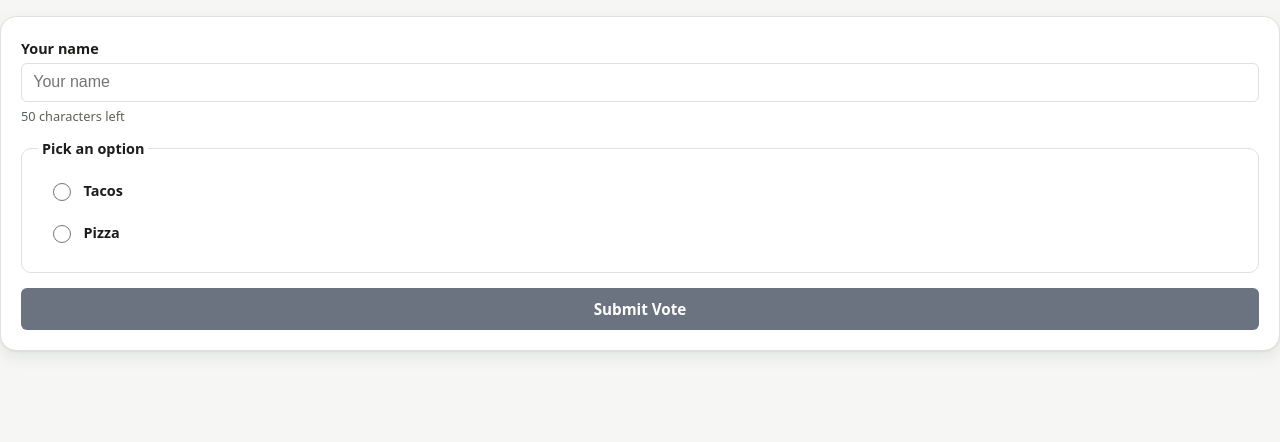
Test: VotingForm › shows a generic error banner for an unknown-option business error (AC-009)
Type "Priya" into the field labelled "Your name" at point(640, 82), box [21, 63, 1259, 102]
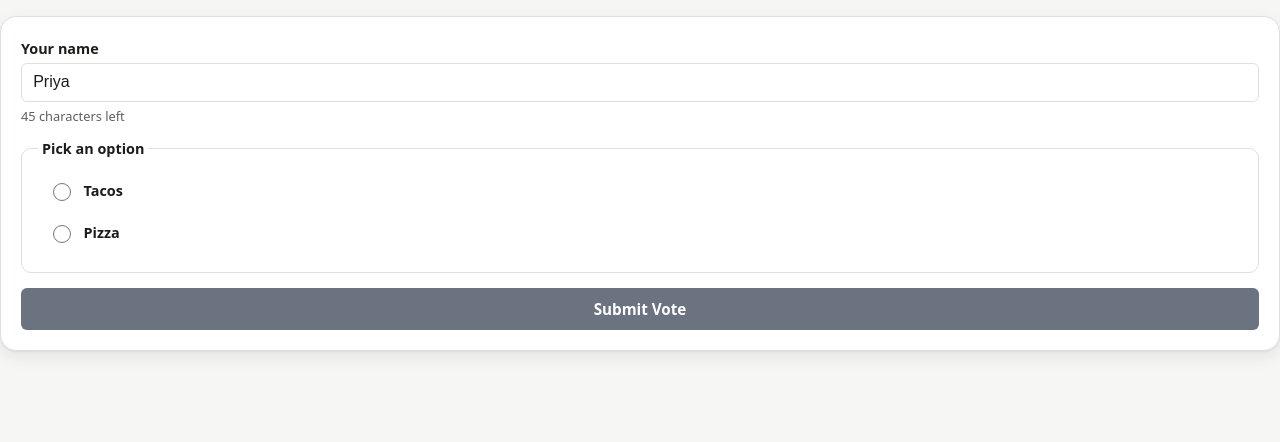
Click the radio button labelled "Tacos" at point(62, 192), box [53, 183, 71, 201]
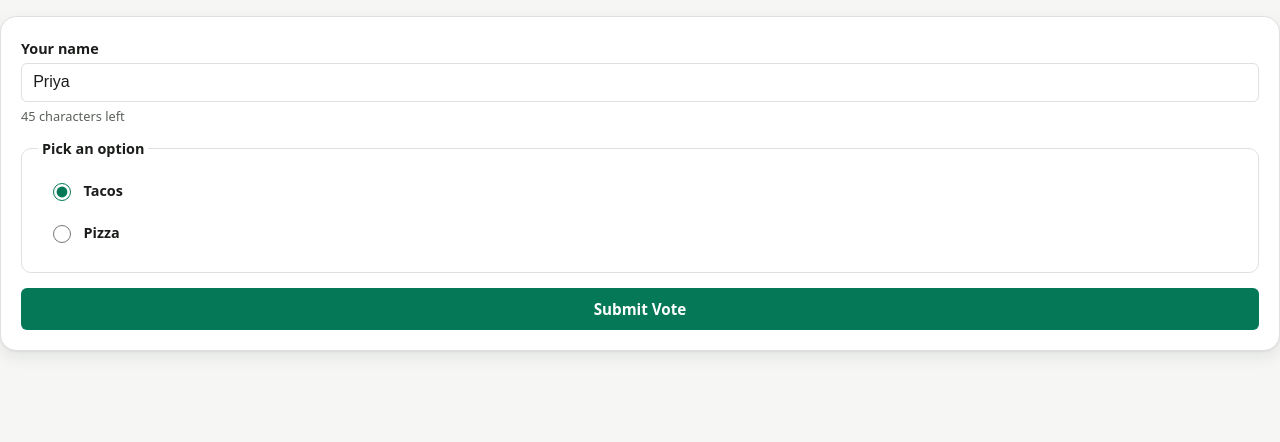
Click the button "Submit Vote" at point(640, 309), box [21, 288, 1259, 330]
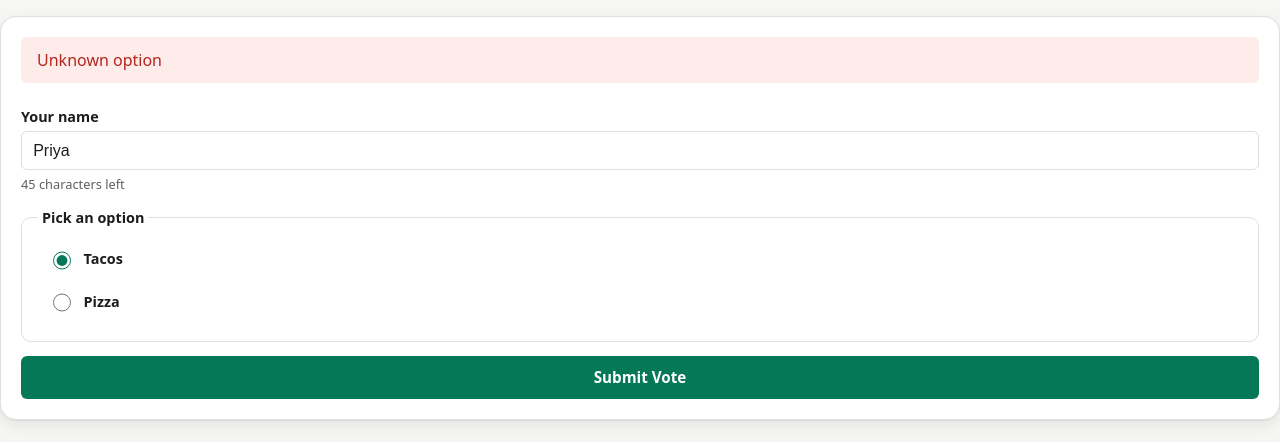
Now the text "Unknown option" is shown, box [21, 37, 1259, 83]
